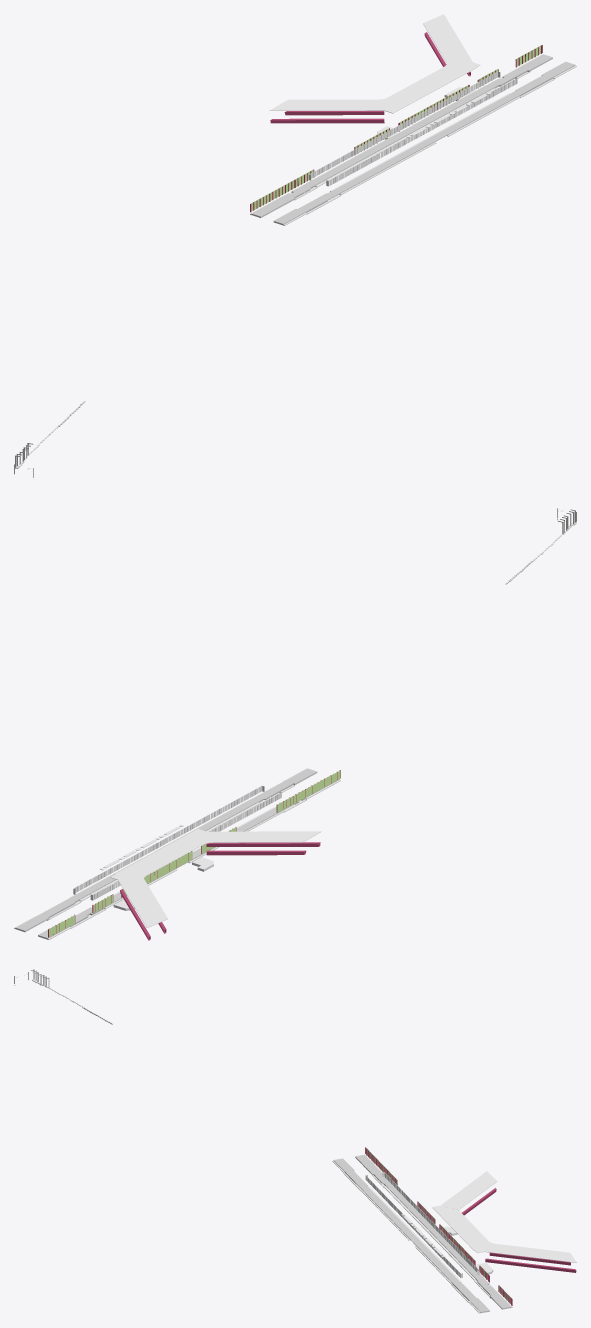
The model's file is TCE18_P01.gltf.
The picture shows the model from 3 angles, top to bottom: view 1: azimuth 30°, elevation 25°; view 2: azimuth 210°, elevation 25°; view 3: azimuth 270°, elevation 25°; orthographic projection. The views are drawn at different scales.
Visible parts, largest first — view 1: Solid (×4), MTR.Mass.Concrete.Fill (×2); view 2: Solid (×3), MTR.Mass.Concrete.Fill (×2); view 3: Solid (×2), MTR.Mass.Concrete.Fill (×2).
Part boxes in pixels (box(x1,y1,x2,y2)): Solid (×4): box(250, 14, 576, 225); MTR.Mass.Concrete.Fill (×2): box(251, 54, 575, 224); Solid (×3): box(14, 768, 340, 939); MTR.Mass.Concrete.Fill (×2): box(15, 768, 339, 938); Solid (×2): box(332, 1155, 576, 1313); MTR.Mass.Concrete.Fill (×2): box(333, 1154, 511, 1312).
Size of the model in its own units: 564 by 18.65 by 402.
